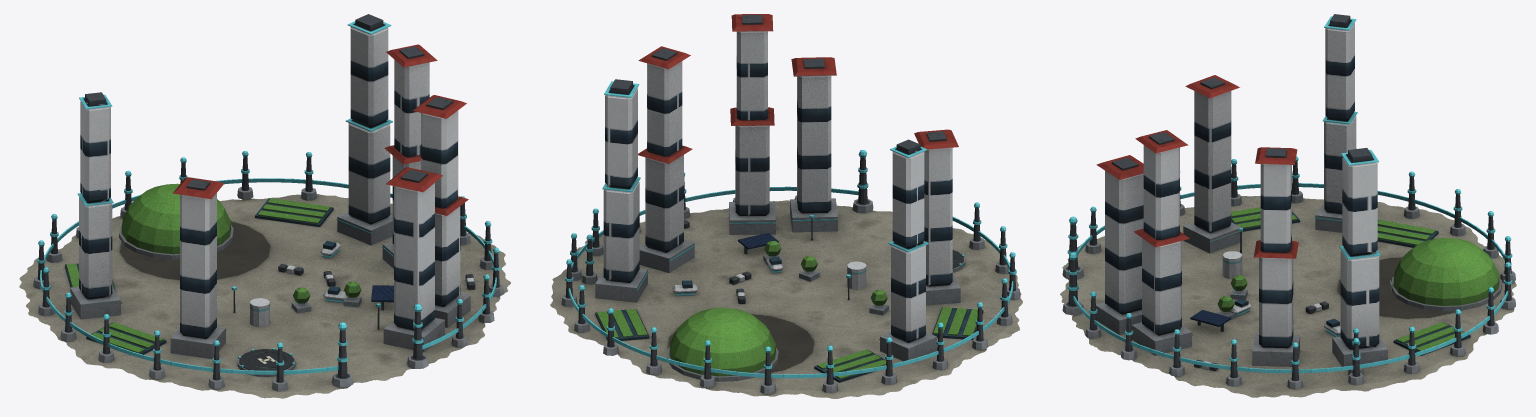
Rendered from future-town-small-b-sinic.glb.
3 views of the same model, side by side, from view 1: azimuth 30°, elevation 25°; view 2: azimuth 150°, elevation 25°; view 3: azimuth 270°, elevation 25° (orthographic). The views are drawn at different scales.
Parts seen in each view (by area): view 1: LOD0; view 2: LOD0; view 3: LOD0.
Part boxes in pixels (bbox=[...]): LOD0: bbox=[19, 14, 510, 398]; LOD0: bbox=[550, 14, 1022, 398]; LOD0: bbox=[1060, 14, 1516, 397].
Size of what is drawn, in the model's own units: 4.01 by 1.88 by 3.8.
Materials: 3 (3 with a texture image).
